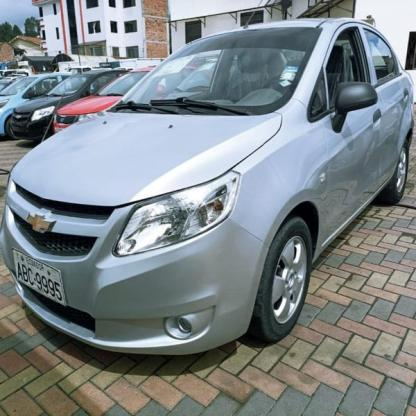Placa: (7, 248, 72, 320)
